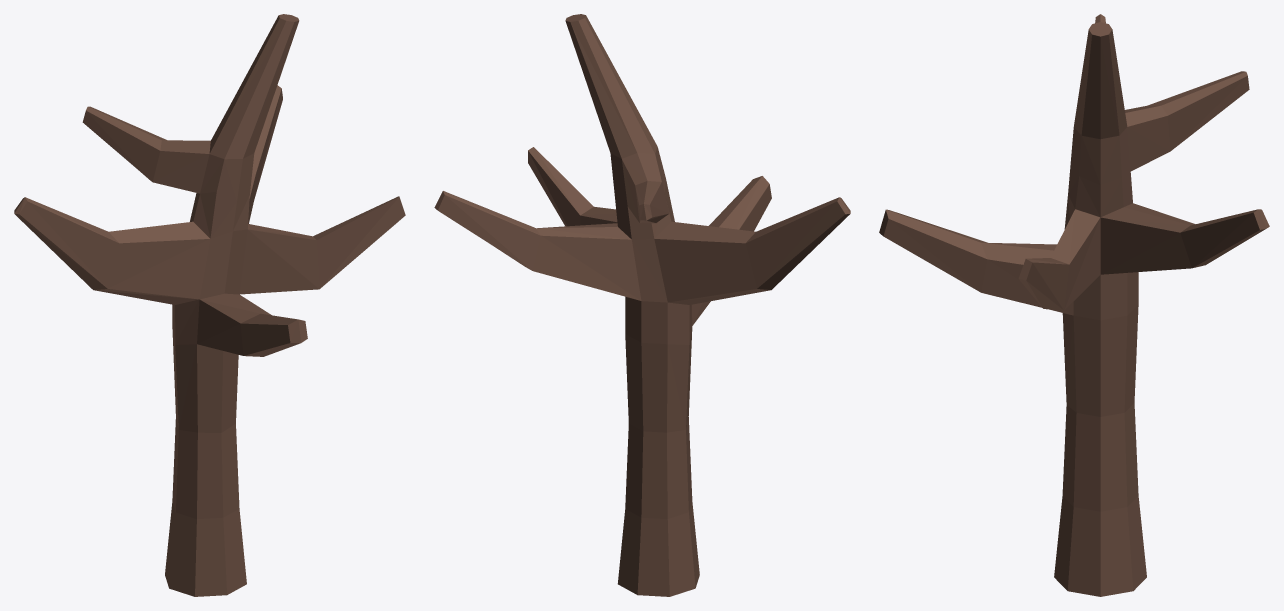
Rendered from broad_deciduous_tree_no_leaves.obj.
The picture shows the model from 3 angles, left to right: view 1: azimuth 30°, elevation 25°; view 2: azimuth 150°, elevation 25°; view 3: azimuth 270°, elevation 25°; orthographic projection. The views are drawn at different scales.
Parts seen in each view (by area): view 1: Broad_deciduous_tree_no_leaves; view 2: Broad_deciduous_tree_no_leaves; view 3: Broad_deciduous_tree_no_leaves.
Part boxes in pixels (x1,y1,x2,y2): Broad_deciduous_tree_no_leaves: (14, 14, 405, 596); Broad_deciduous_tree_no_leaves: (434, 14, 850, 596); Broad_deciduous_tree_no_leaves: (879, 14, 1269, 596).
Bounding box in the file's own units: 1.63 × 2.38 × 1.42.
Materials: 1 (1 with a texture image).
